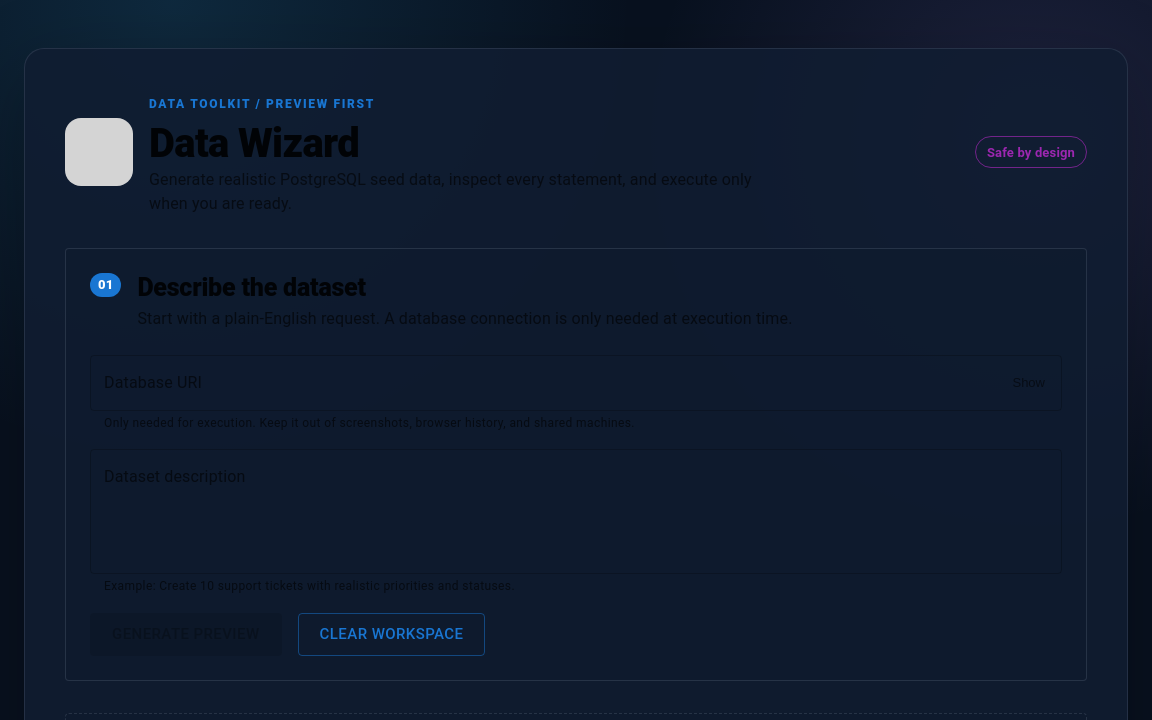
it: DataRequest › disables generation until the dataset description has a value
Step 1. Type "Create one row" into the text box labelled "Dataset description" → (576, 512), box [104,466,1048,558]
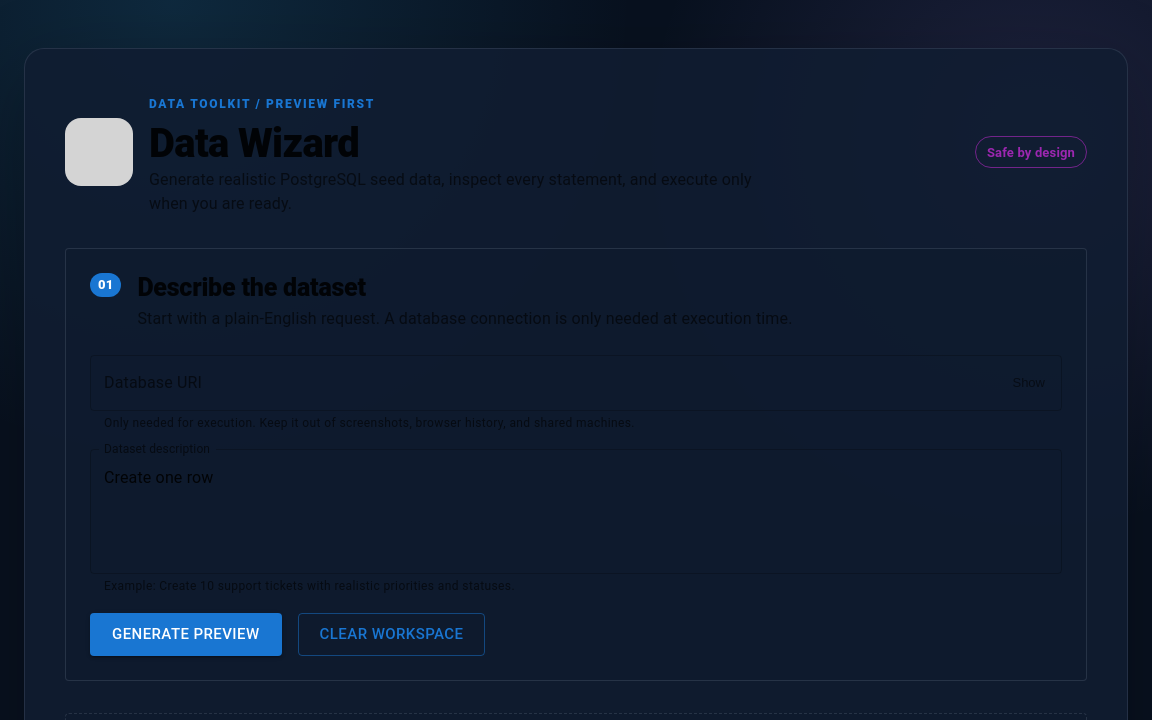
Expected: the button "Generate preview" is enabled, [90,613,282,656]
